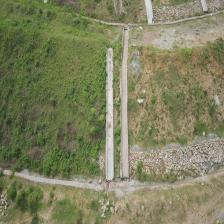rock_toe: (130, 137, 224, 181), (153, 0, 203, 21)
slope_drain: (102, 47, 115, 183), (120, 25, 130, 180)
